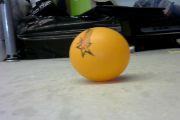PingPongBall: (70, 28, 130, 82)
